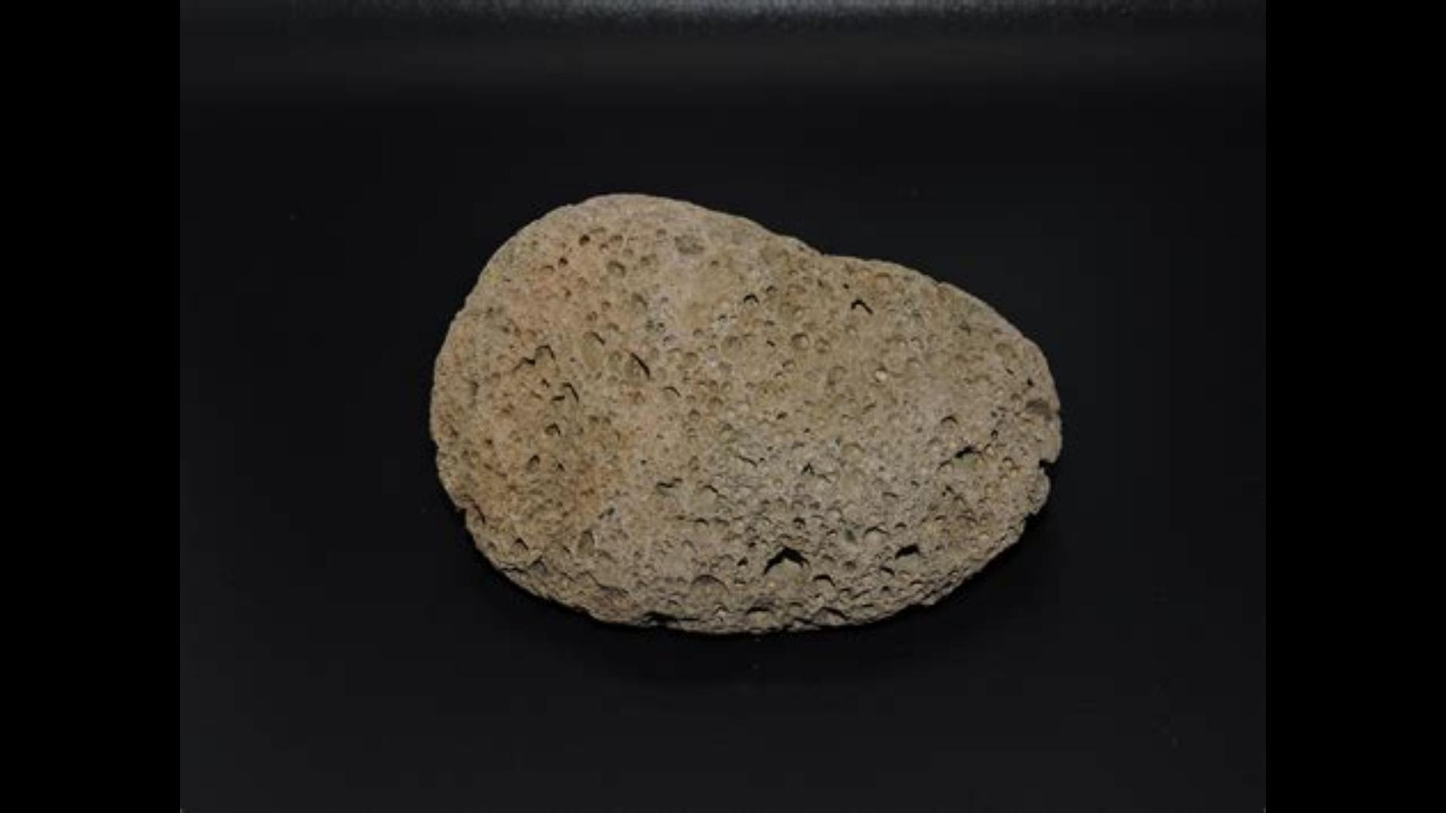rock: (437, 195, 1058, 627)
